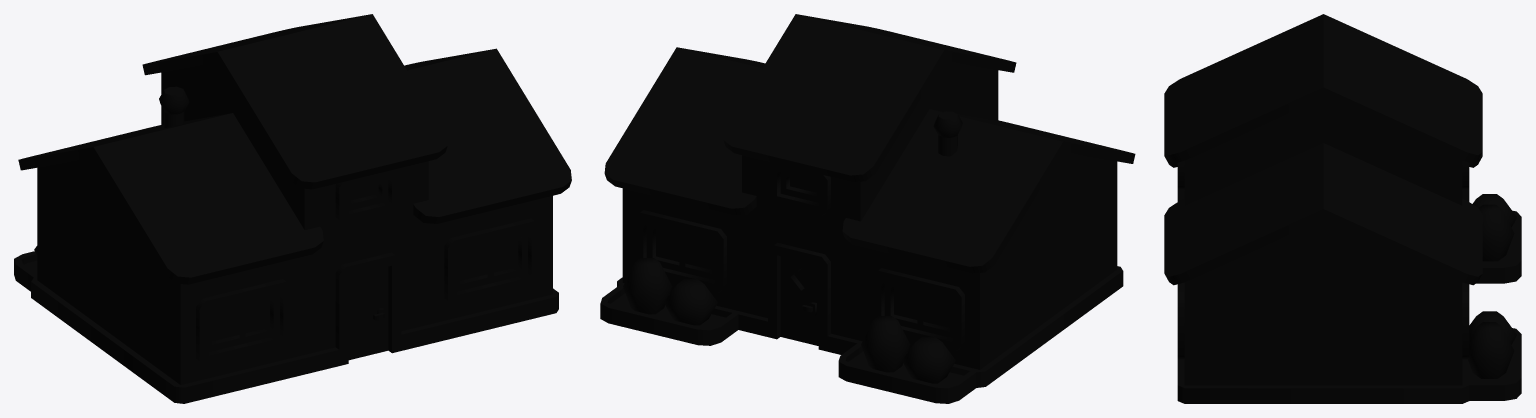
The model's file is building-type-a.glb.
The picture shows the model from 3 angles, left to right: view 1: azimuth 30°, elevation 25°; view 2: azimuth 150°, elevation 25°; view 3: azimuth 270°, elevation 25°; orthographic projection. The views are drawn at different scales.
Parts seen in each view (by area): view 1: building-type-a; view 2: building-type-a; view 3: building-type-a.
Part boxes in pixels (box(x1,y1,x2,y2)): building-type-a: box(14, 14, 571, 403); building-type-a: box(600, 14, 1135, 403); building-type-a: box(1164, 14, 1521, 403).
Bounding box in the file's own units: 1.3 × 0.8336 × 1.03.
1 material, 1 textured.
